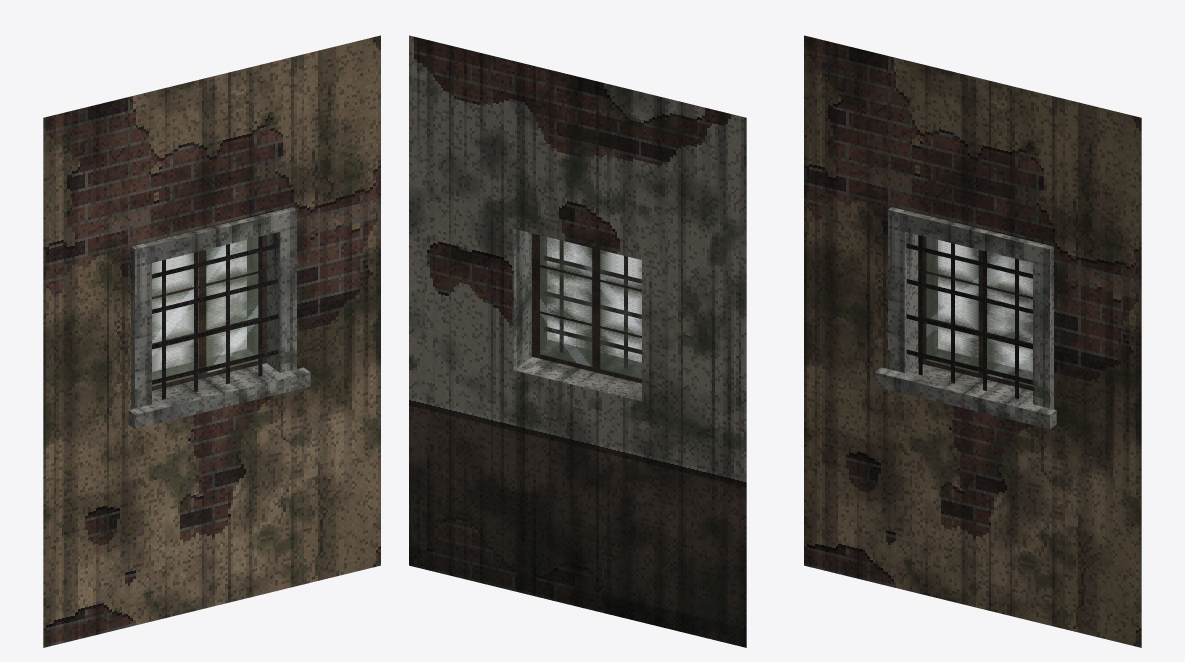
Rendered from ext_window_grille.gltf.
3 renders of one model, left to right at view 1: azimuth 30°, elevation 25°; view 2: azimuth 150°, elevation 25°; view 3: azimuth 330°, elevation 25°, orthographic.
Parts seen in each view (by area): view 1: ext_window_grille; view 2: ext_window_grille; view 3: ext_window_grille.
Part boxes in pixels (<box>): ext_window_grille: <box>43,35,380,647</box>; ext_window_grille: <box>409,35,746,647</box>; ext_window_grille: <box>804,35,1141,647</box>.
Size of what is drawn, in the model's own units: 2 by 3 by 0.41.
Materials: 5 (5 with a texture image).
